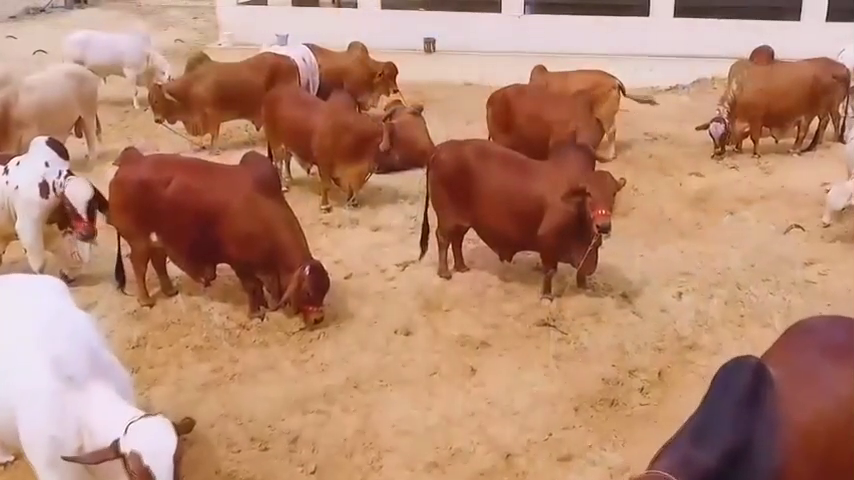bo: (99, 136, 359, 341), (4, 261, 214, 480), (613, 301, 854, 477), (401, 140, 635, 302), (255, 64, 392, 225), (702, 42, 850, 167), (131, 41, 292, 147), (4, 132, 102, 279), (516, 52, 638, 167), (480, 85, 612, 174), (1, 49, 107, 159), (66, 18, 173, 121), (300, 26, 406, 112), (256, 22, 320, 104), (387, 96, 445, 172), (820, 139, 849, 233)
